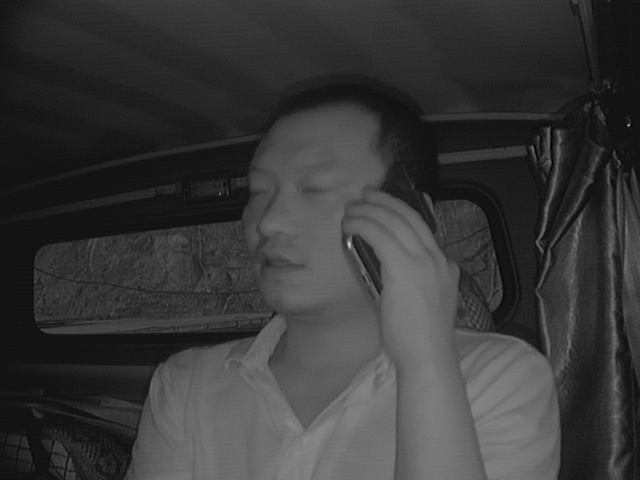hand: (340, 186, 459, 358)
